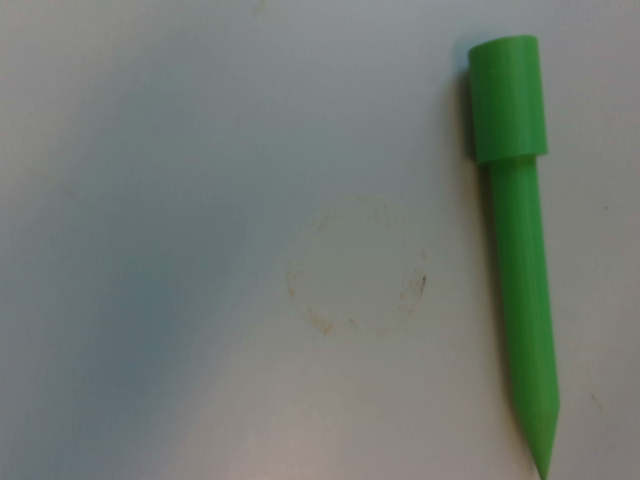Probe: (458, 21, 571, 480)
